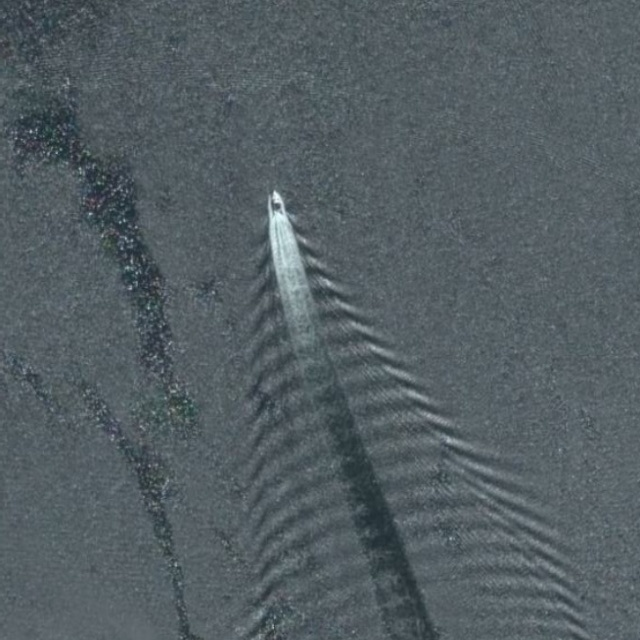wake: (189, 164, 418, 468)
